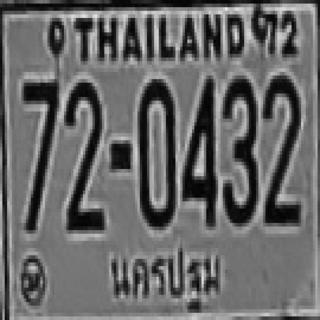N00: (136, 76, 174, 226)
N02: (64, 79, 102, 230), (261, 74, 299, 221), (262, 72, 300, 209)
N03: (220, 74, 256, 225)
N04: (180, 74, 216, 225)
N07: (21, 79, 57, 230), (21, 79, 57, 194), (21, 79, 57, 176)
P28: (104, 245, 225, 313)
